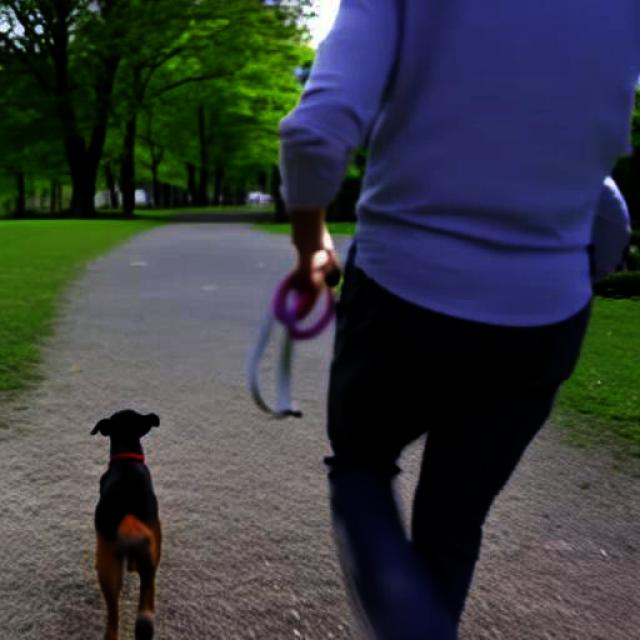Unleashed_Dog: (90, 280, 471, 640)
